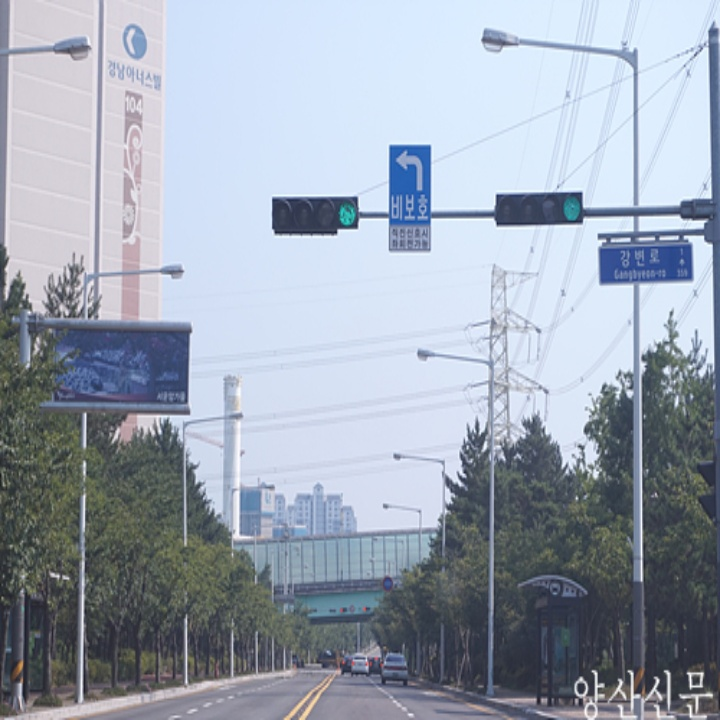left: (389, 145, 429, 195)
